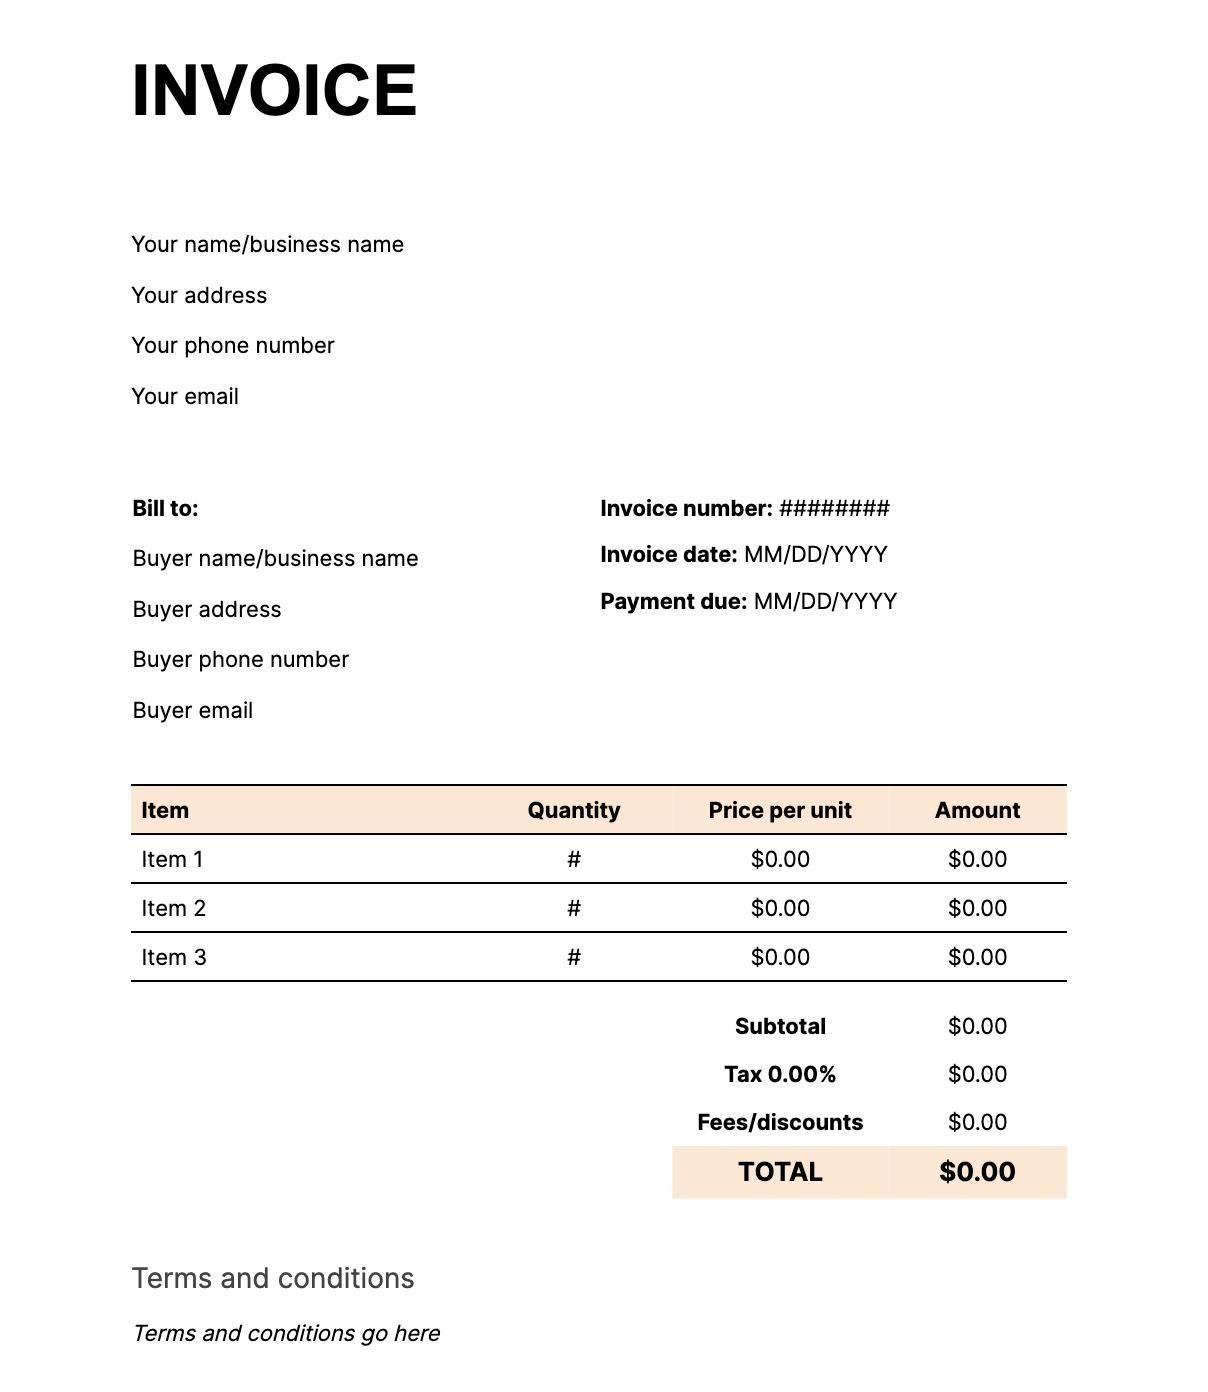ROI: (130, 782, 1071, 986), (128, 491, 523, 739), (118, 220, 511, 443), (672, 1003, 1067, 1197), (592, 484, 930, 623), (125, 1303, 577, 1355)
